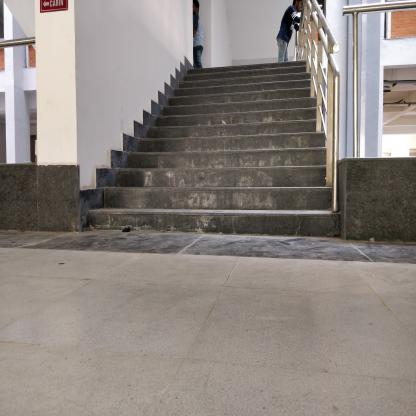stairs: (191, 67, 306, 246)
